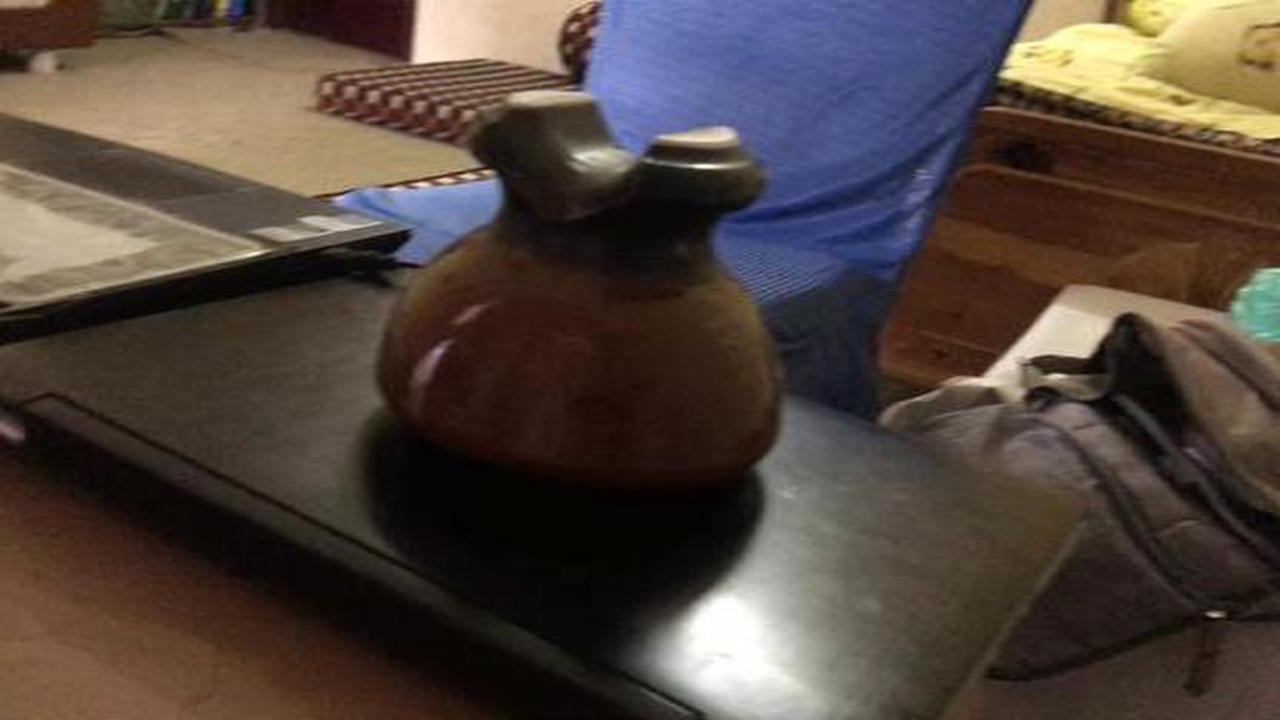insulator_pin: (354, 66, 810, 515)
